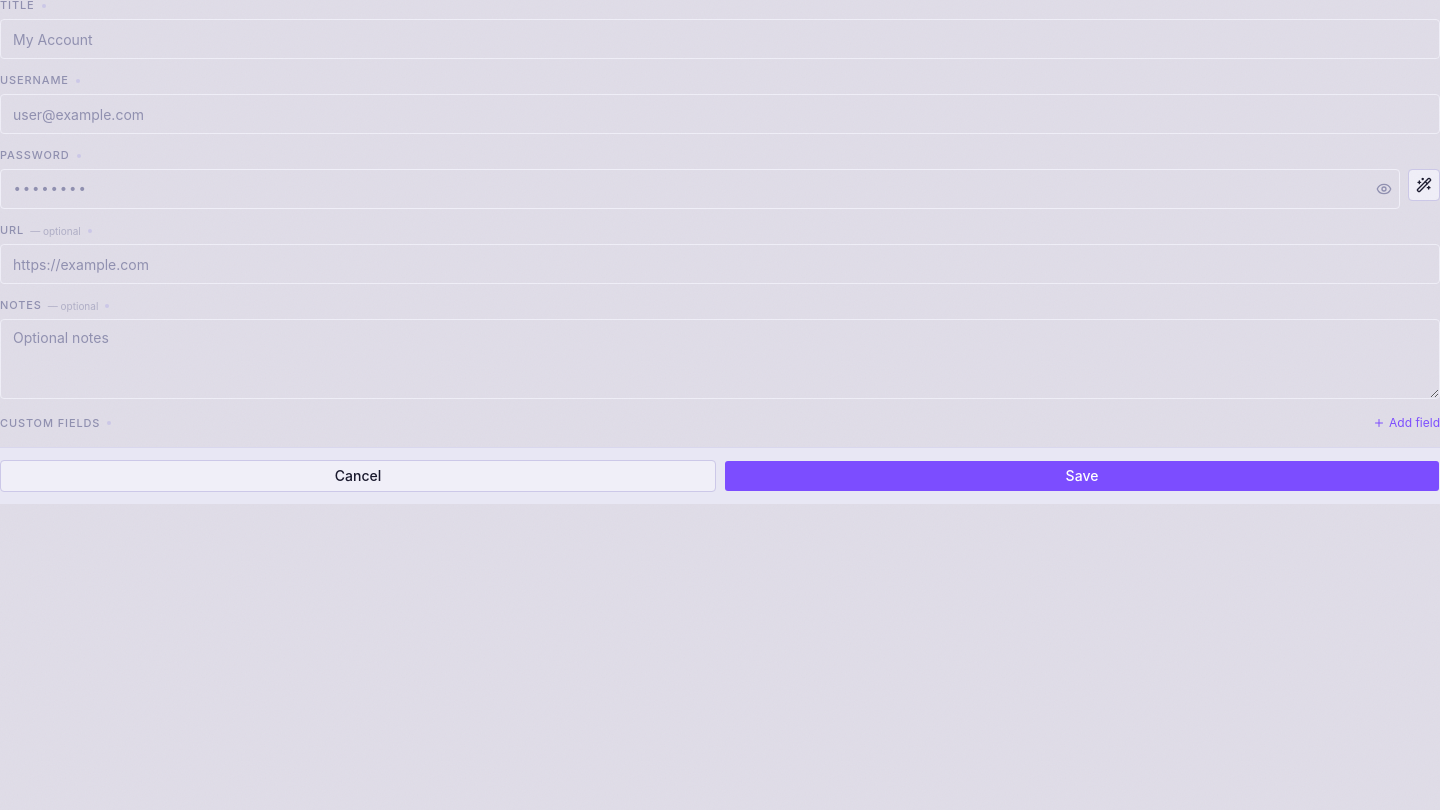
Scenario: ItemForm › UI features › shows discard dialog when Cancel is clicked with unsaved changes
Type "Test" into the field labelled "Title". click: (720, 39)
box: [0, 19, 1439, 59]
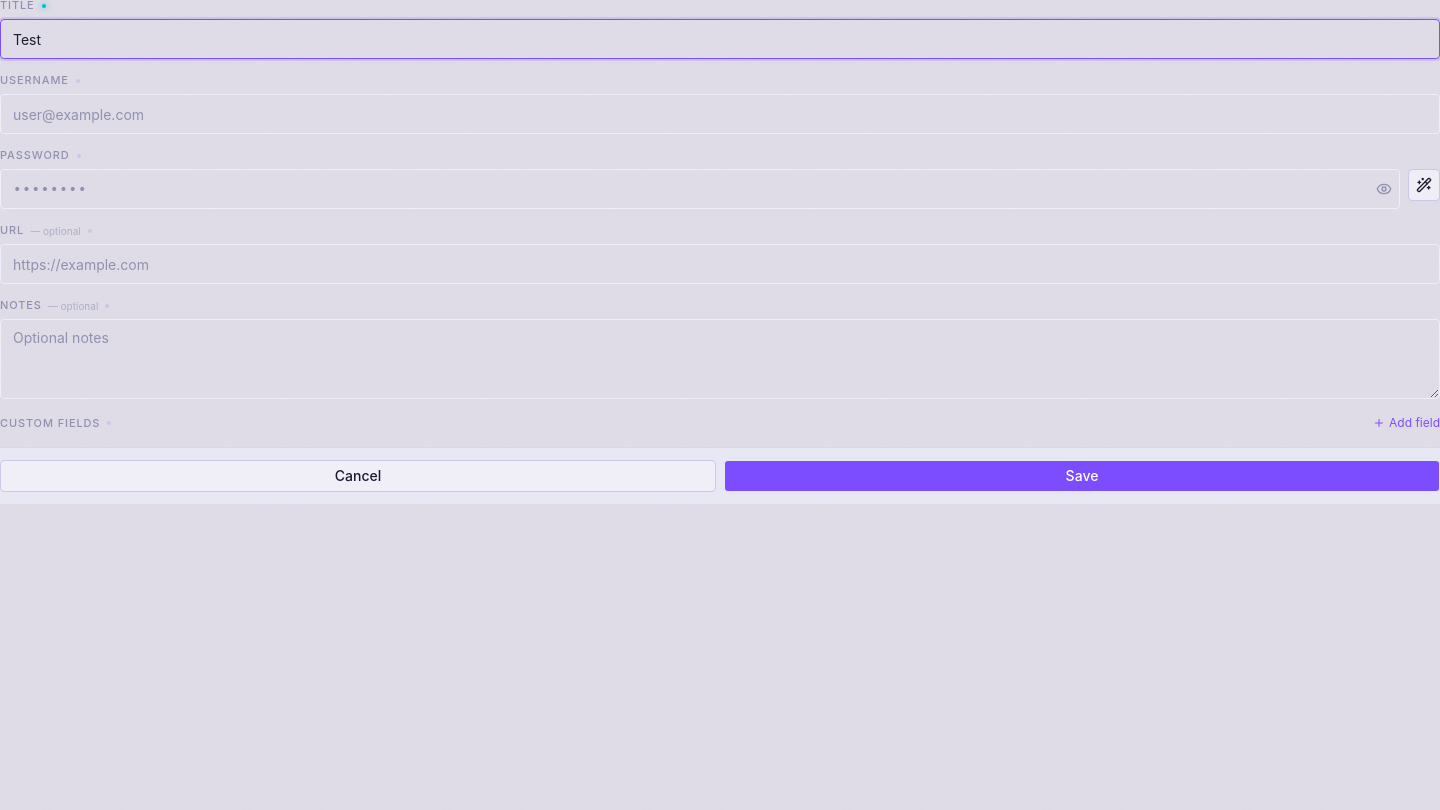
Click the button "Cancel". click: (358, 476)
box: [0, 460, 716, 492]
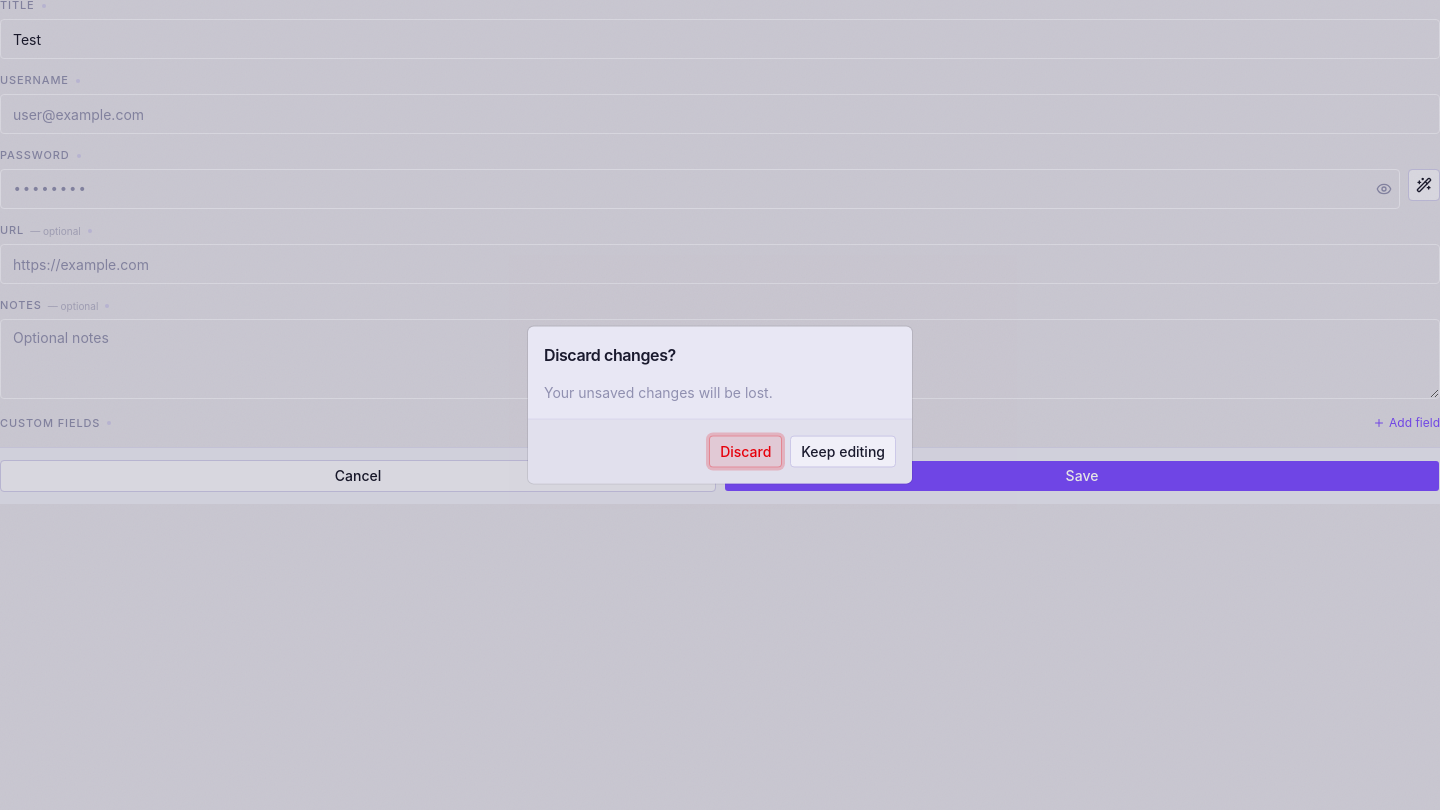
Expected: the heading "Discard changes?" is shown, [544, 344, 676, 364]
